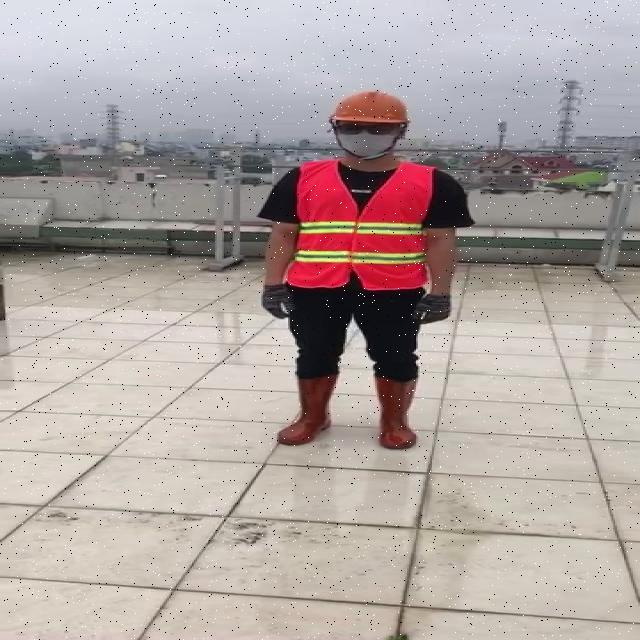Hard_hat: (324, 86, 420, 133)
Person: (246, 93, 478, 472)
Vest: (288, 156, 435, 293)
